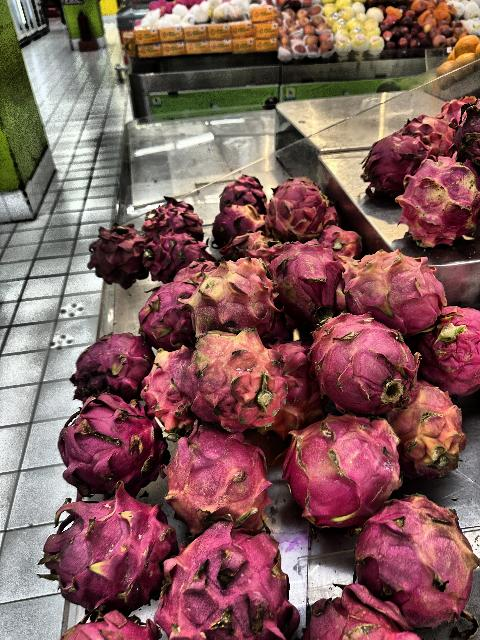buah-naga-belum-matang: (364, 496, 480, 620), (160, 432, 276, 524), (186, 334, 290, 426), (340, 247, 444, 326), (188, 256, 276, 336), (390, 384, 462, 478), (142, 349, 202, 429), (208, 205, 264, 237)
buah-naga-matang: (153, 522, 299, 640), (34, 497, 178, 609), (287, 416, 399, 520), (50, 400, 170, 490), (308, 312, 416, 406), (296, 574, 420, 640), (400, 160, 480, 246), (420, 307, 480, 397), (266, 241, 340, 313), (66, 338, 154, 398), (362, 128, 428, 192), (266, 178, 329, 244), (140, 280, 200, 338), (87, 228, 143, 278), (137, 200, 203, 236), (402, 110, 450, 156), (146, 235, 206, 271), (216, 174, 268, 210), (456, 96, 480, 168), (318, 223, 359, 254)
